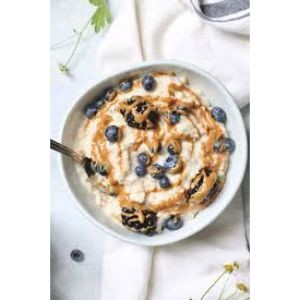oat_brain food: (73, 89, 213, 205)
